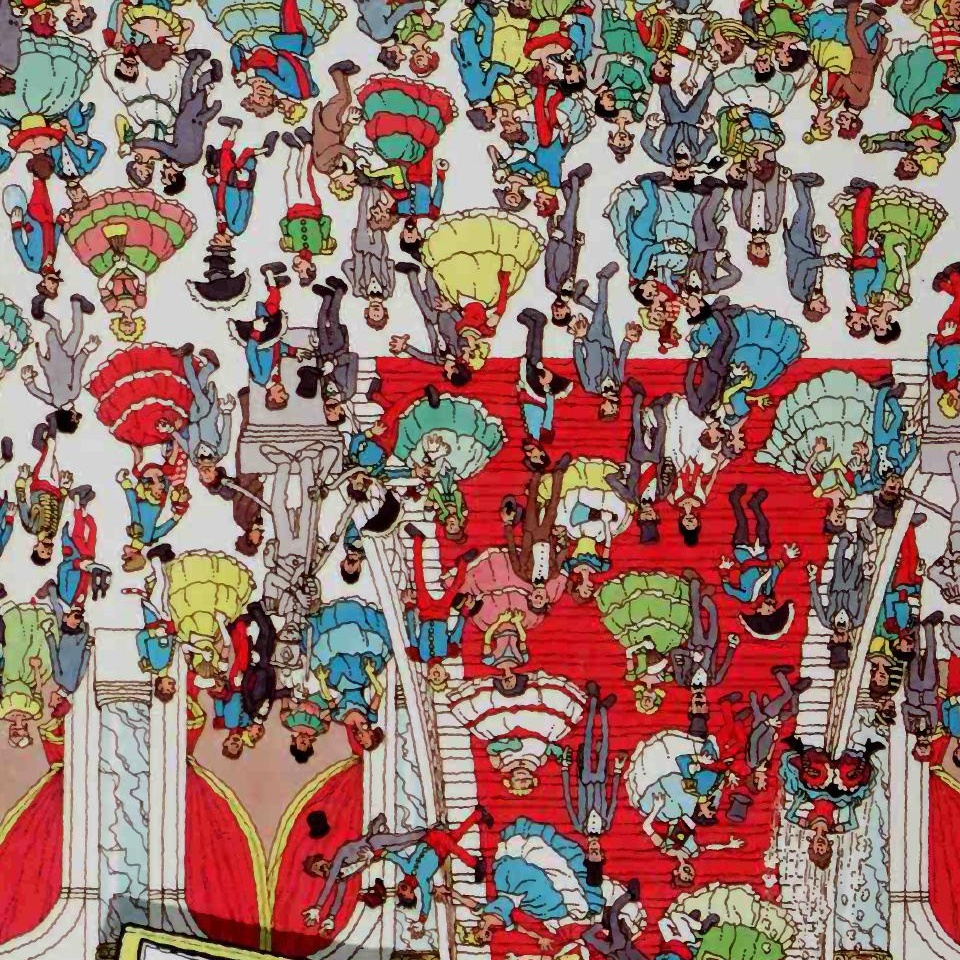waldo: (932, 20, 960, 96)
